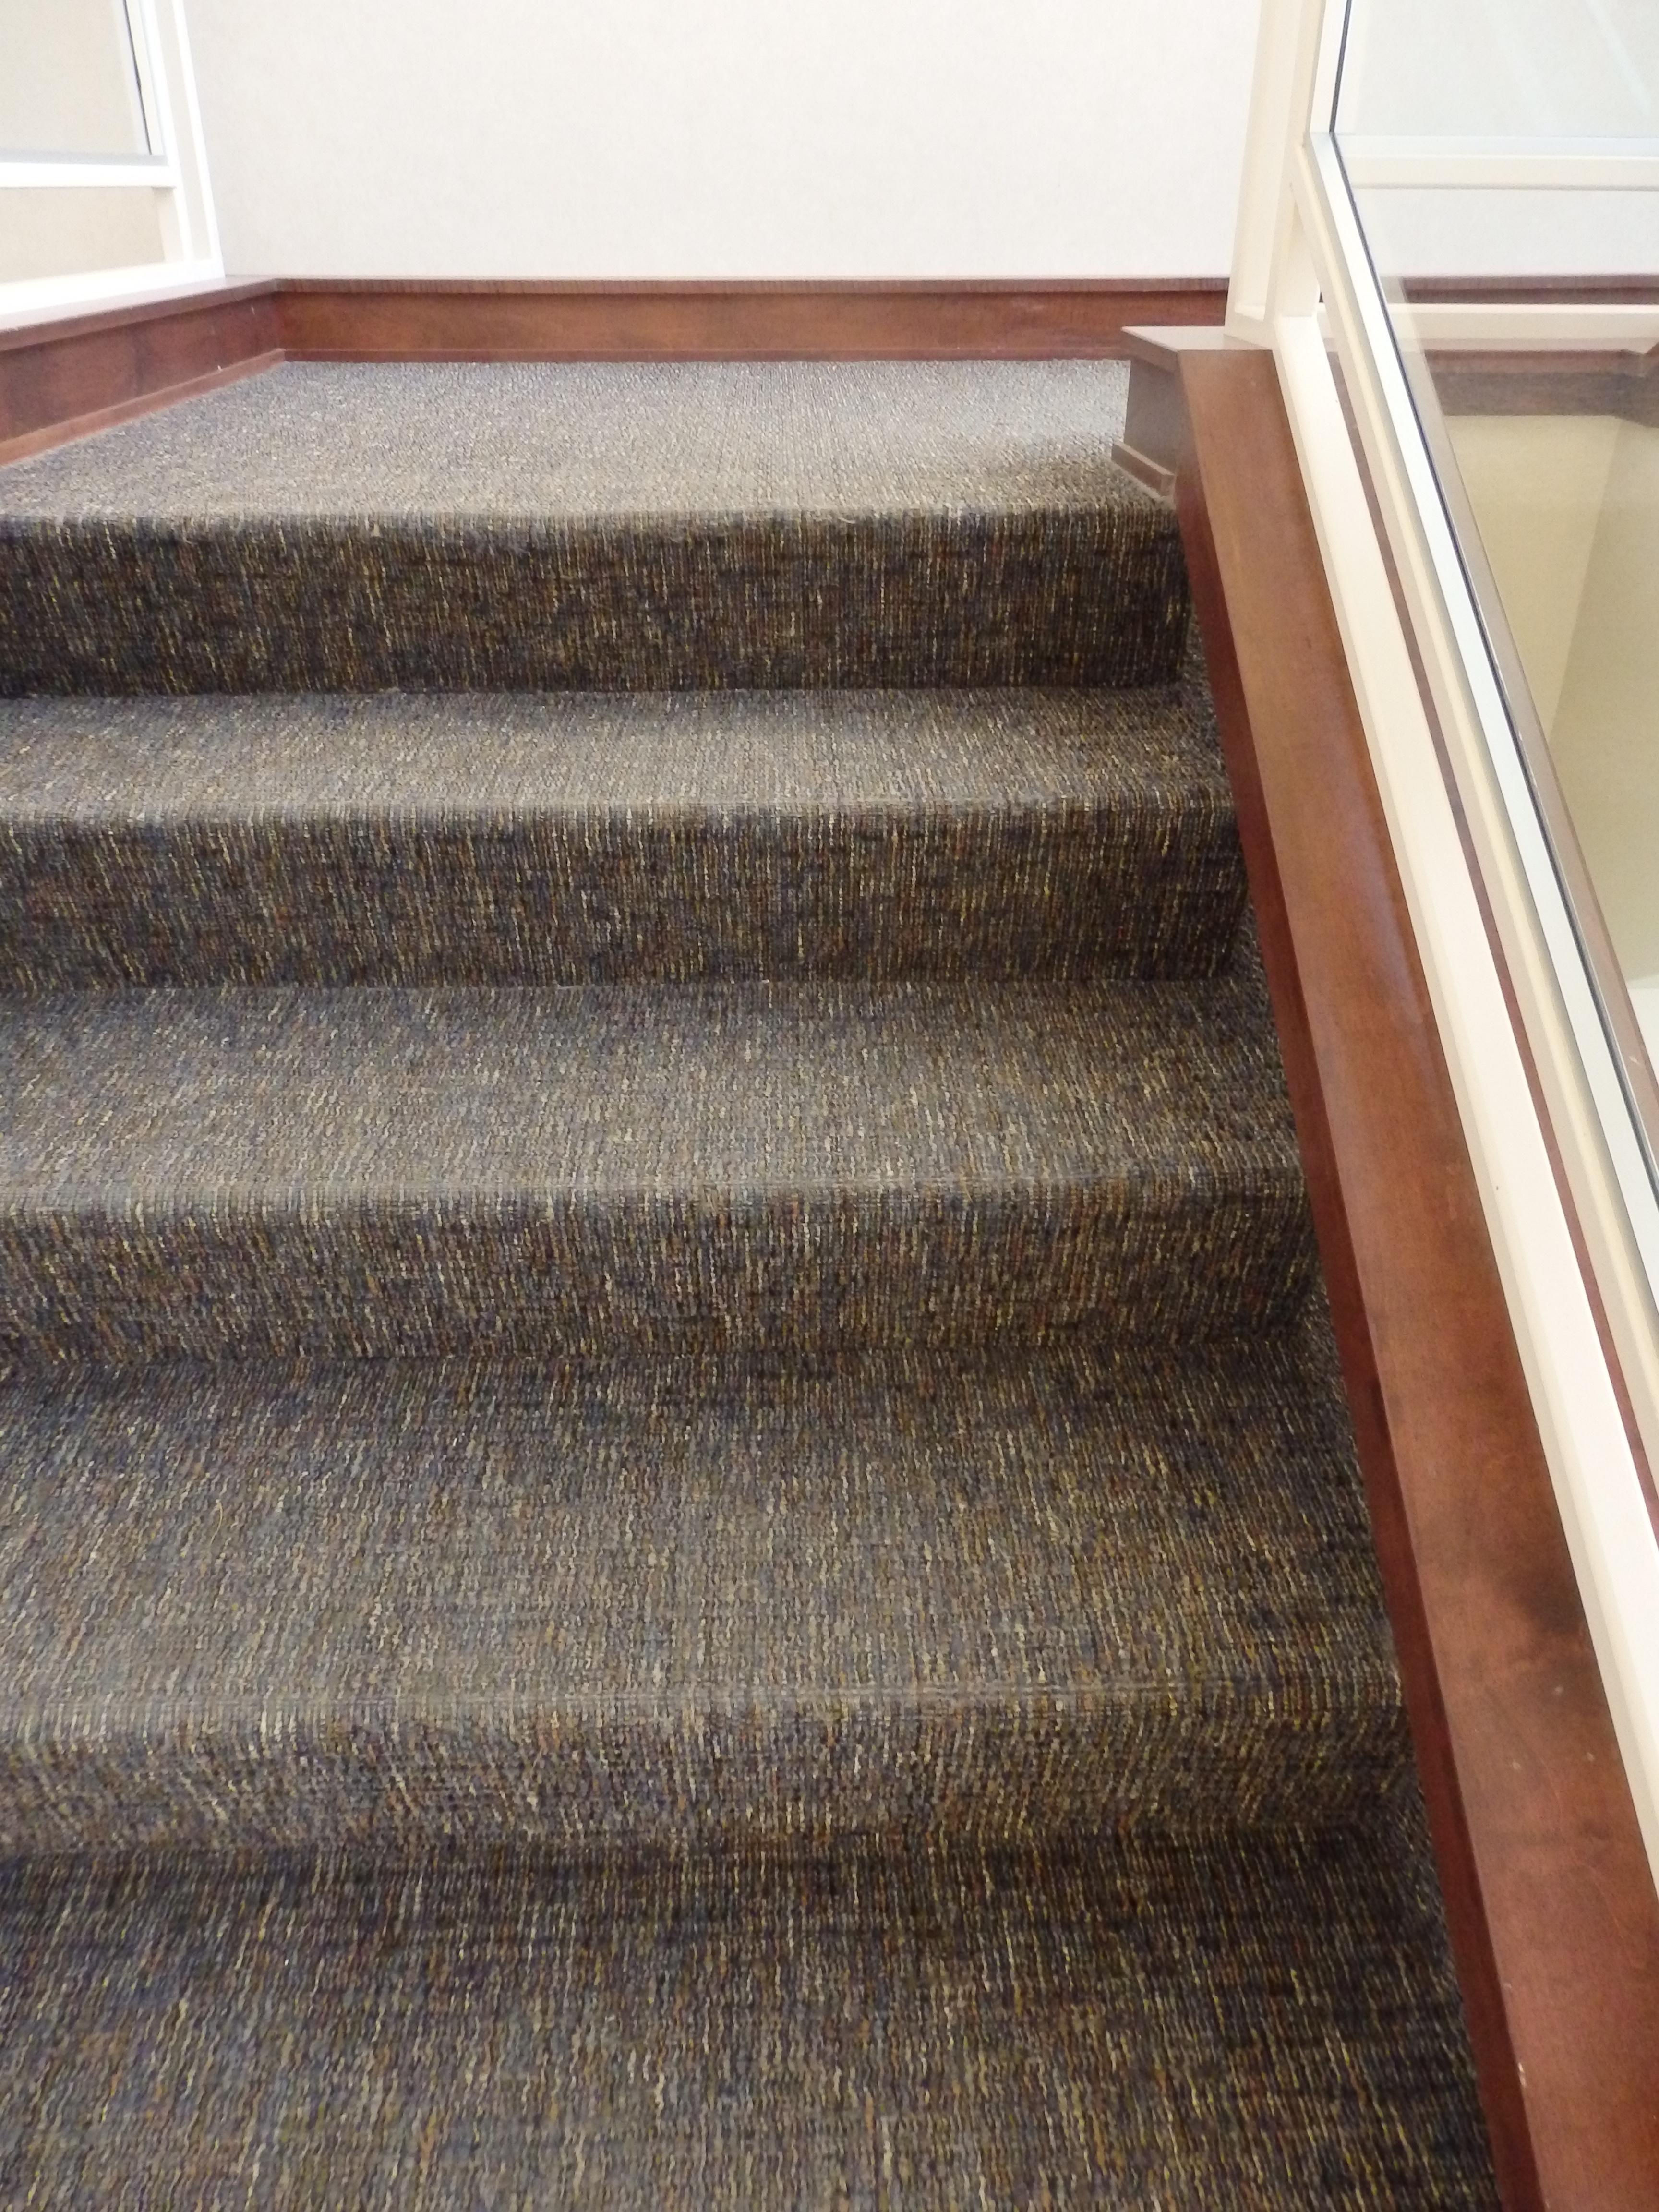stairs_up: (9, 470, 1371, 1860)
